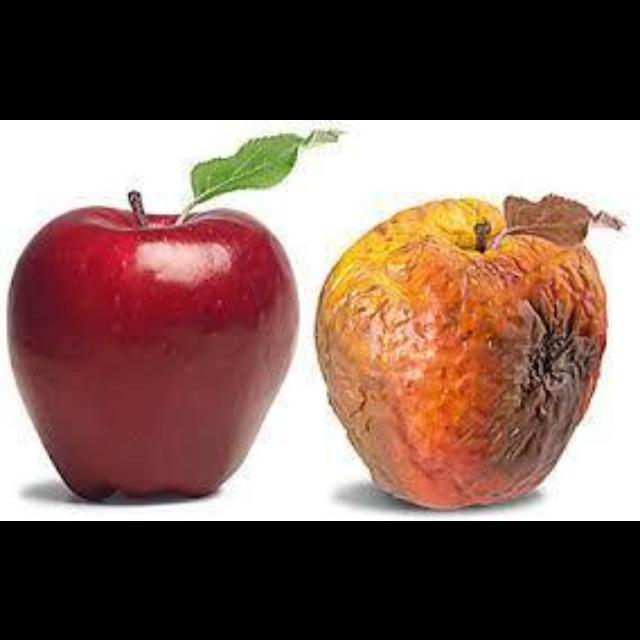apple: (315, 193, 622, 507), (7, 200, 297, 500), (329, 259, 539, 457), (534, 252, 604, 358)
rotten: (315, 193, 622, 507)
